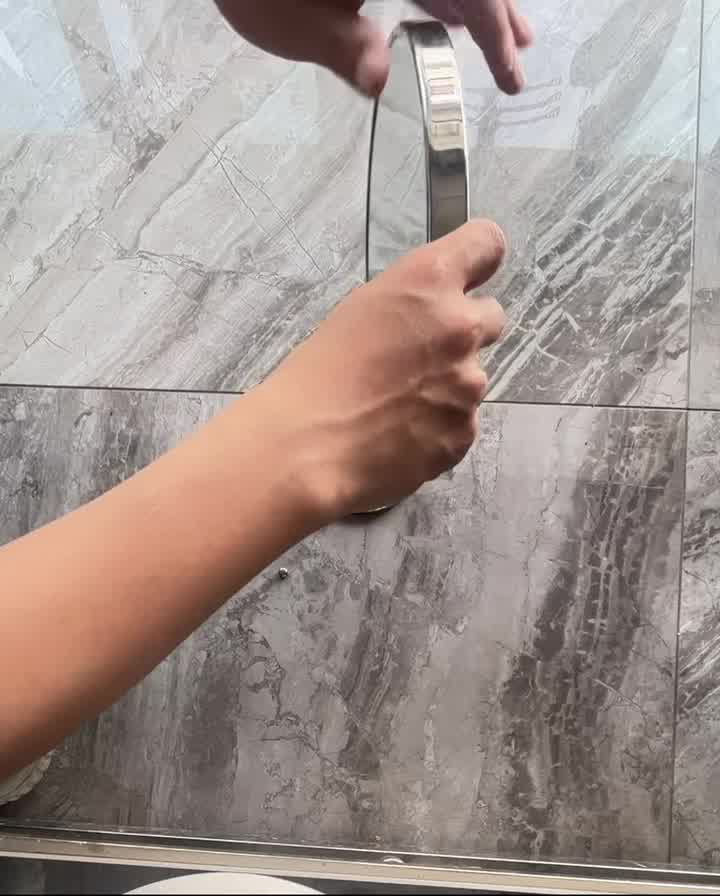mirror: (350, 19, 506, 313)
screw: (274, 564, 294, 588)
